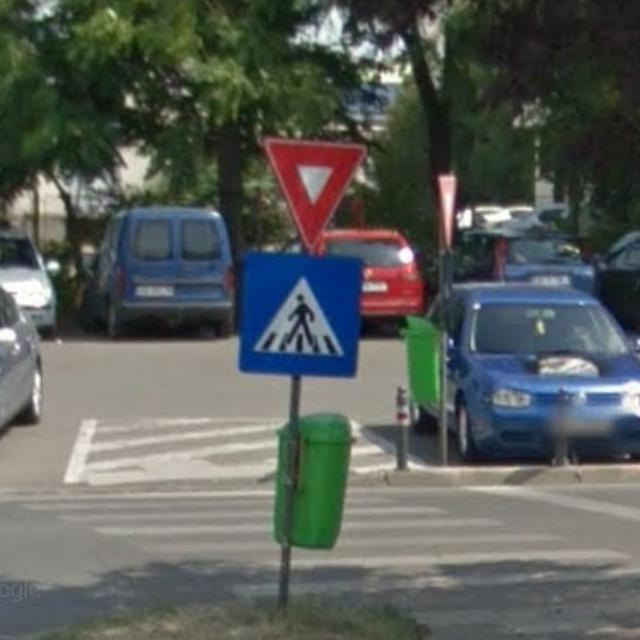info_crosswalk: (237, 254, 362, 378)
prio_give_way: (258, 134, 367, 249)
